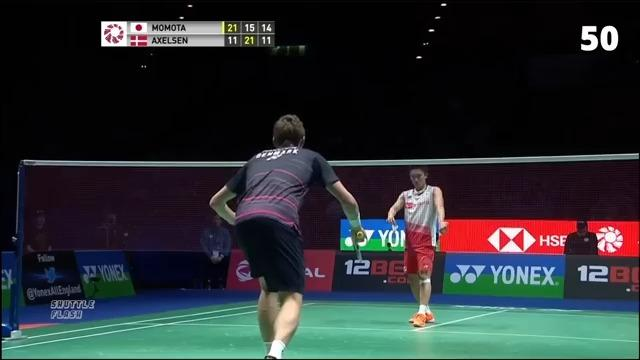Shuttlecock: (390, 222, 400, 234)
